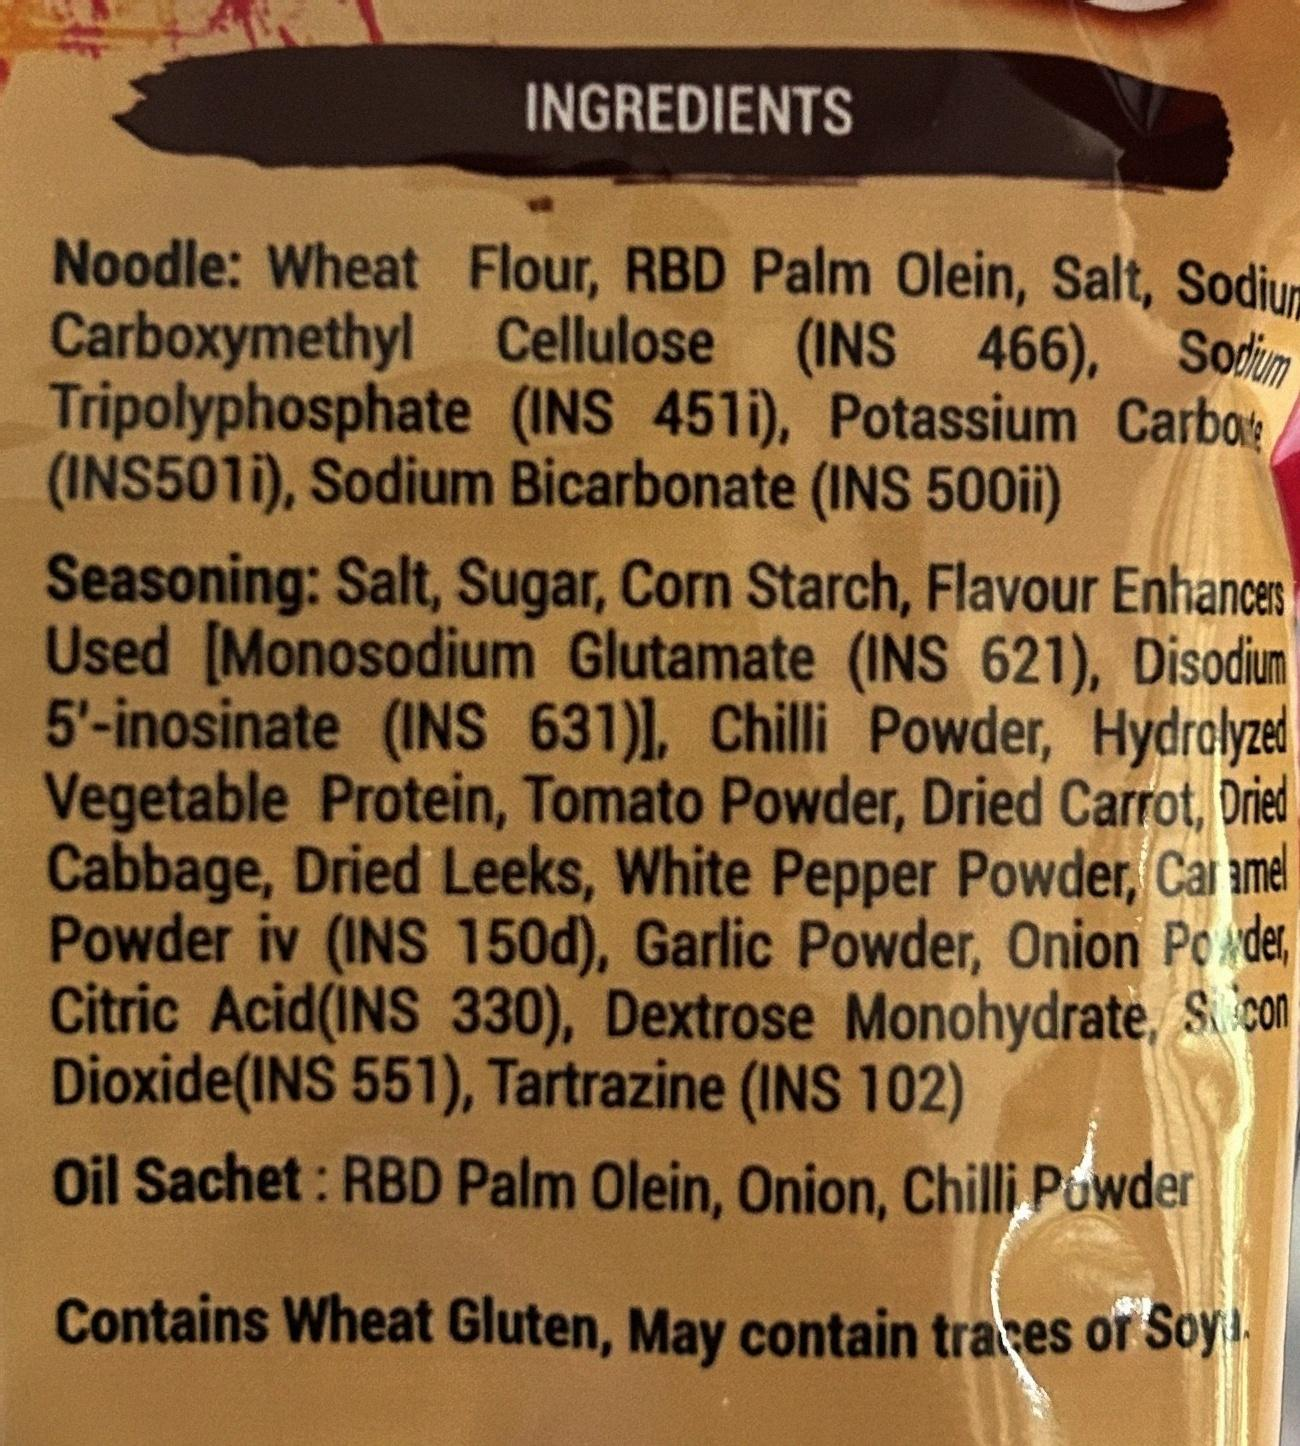ingredients: (18, 33, 1299, 1258)
